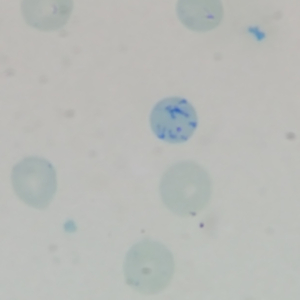aggregate reticulocyte: (147, 95, 200, 145)
erythrocyte: (157, 159, 214, 218), (121, 237, 176, 296)
punctate reticulocyte: (8, 155, 60, 213)
